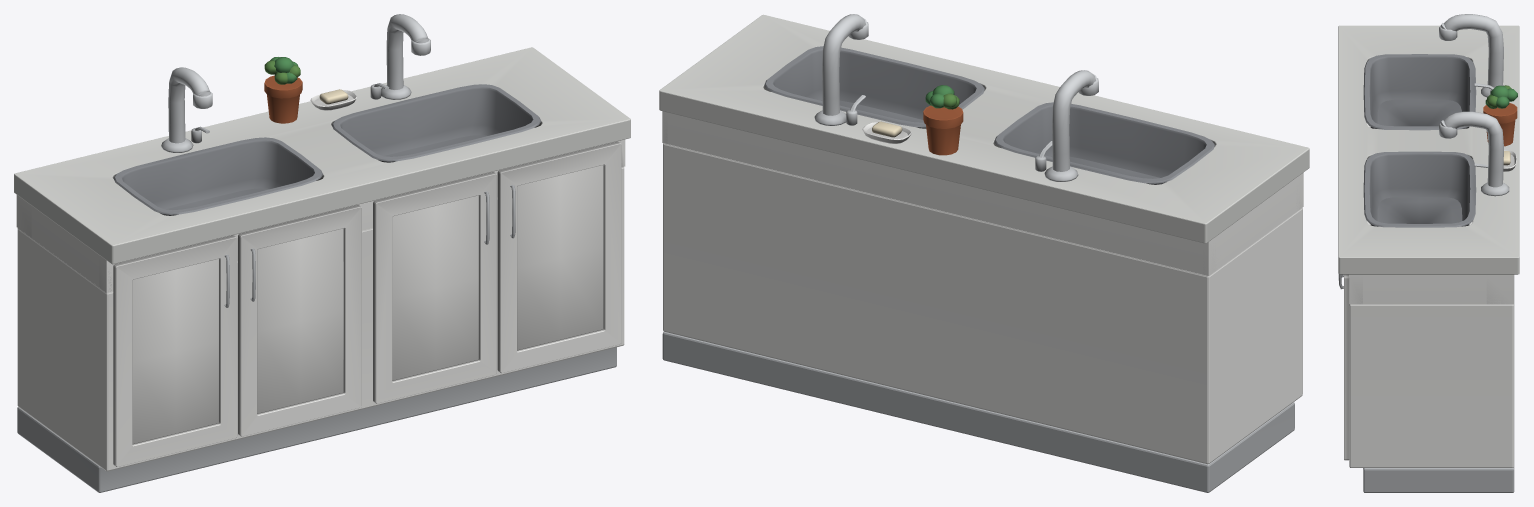
Rendered from counterSinkDouble.glb.
3 renders of one model, left to right at view 1: azimuth 30°, elevation 25°; view 2: azimuth 150°, elevation 25°; view 3: azimuth 270°, elevation 25°, orthographic. The views are drawn at different scales.
Parts seen in each view (by area): view 1: body; view 2: body; view 3: body.
Boxes of the visible parts, x1,y1,x2,y2 form: body: (14, 14, 630, 492); body: (659, 14, 1309, 492); body: (1338, 14, 1519, 492).
Size of the model in its own units: 2 by 1.26 by 0.66.
